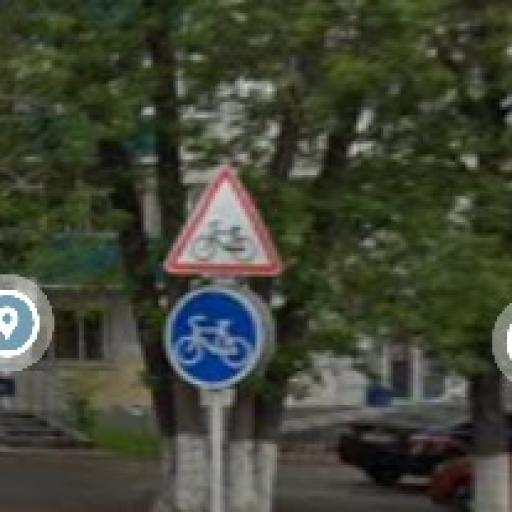traffic_sign: (162, 168, 288, 275), (162, 286, 271, 393)
